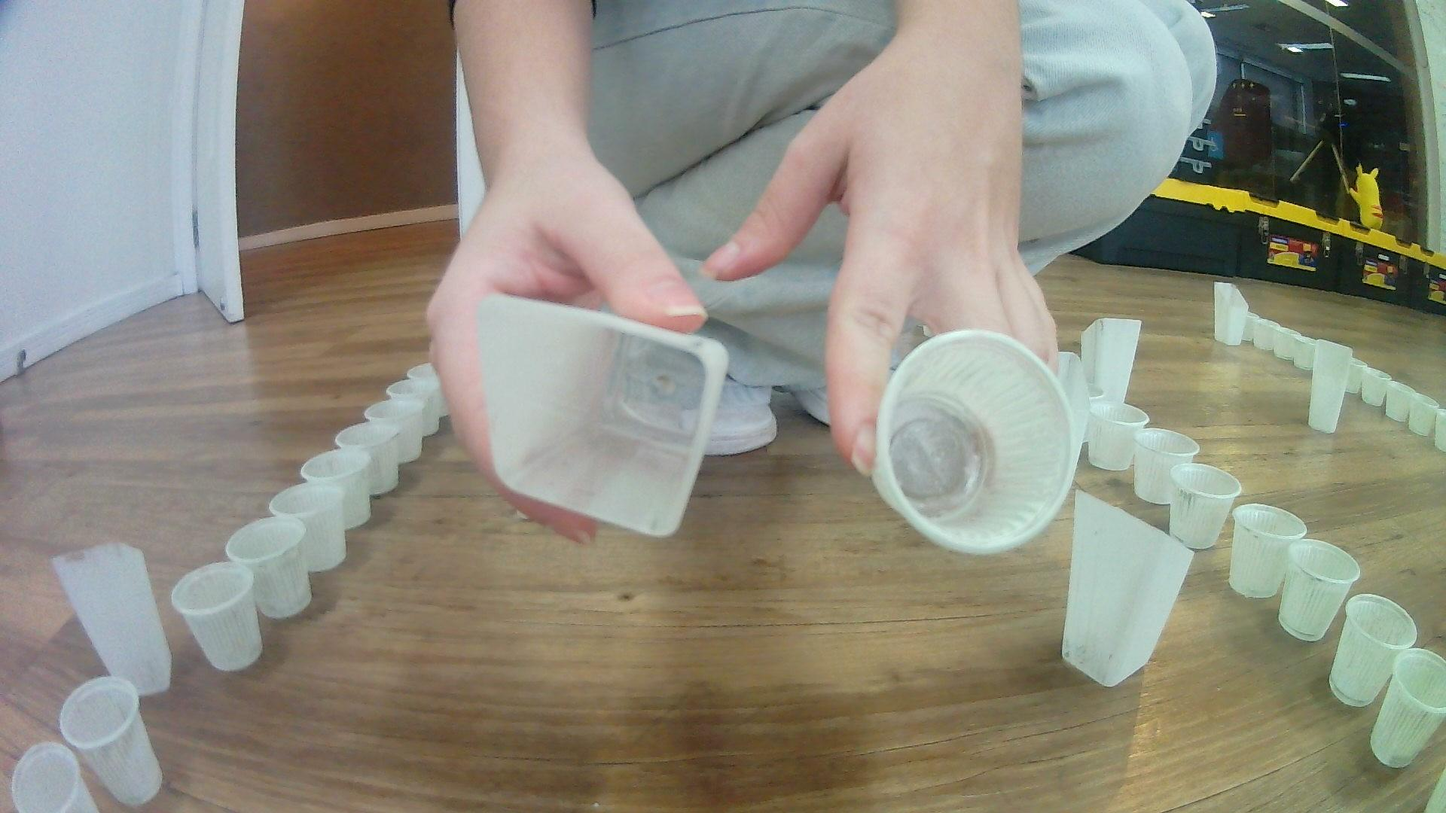erva_daninha: (473, 291, 731, 538), (1060, 489, 1196, 690), (50, 541, 172, 698), (1080, 316, 1143, 404), (1307, 337, 1355, 434), (1213, 281, 1249, 346)
planta: (868, 328, 1084, 558), (57, 676, 162, 810), (1328, 592, 1419, 708), (169, 562, 264, 671), (1367, 647, 1446, 769), (224, 515, 313, 620), (1278, 539, 1362, 644), (1228, 504, 1308, 598), (268, 481, 347, 573), (1167, 464, 1243, 552), (9, 742, 102, 813), (299, 449, 374, 531), (1133, 428, 1203, 504), (333, 422, 399, 495), (1087, 403, 1152, 472), (364, 400, 423, 465), (1057, 351, 1094, 447), (385, 379, 440, 437), (406, 362, 450, 417), (1408, 396, 1440, 437), (1385, 385, 1416, 422), (1362, 370, 1392, 406), (1241, 311, 1268, 347), (1261, 323, 1289, 355), (1274, 329, 1301, 361), (1292, 336, 1316, 370), (1346, 358, 1368, 394), (1433, 409, 1446, 452)
